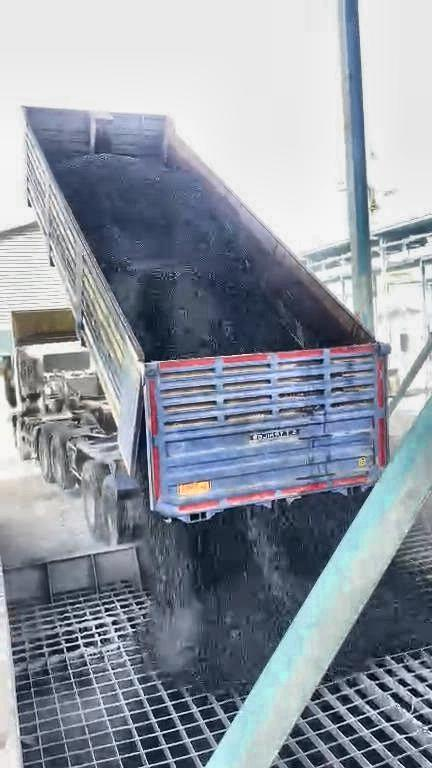gravel: (57, 155, 303, 358), (143, 494, 359, 689), (329, 558, 431, 677)
